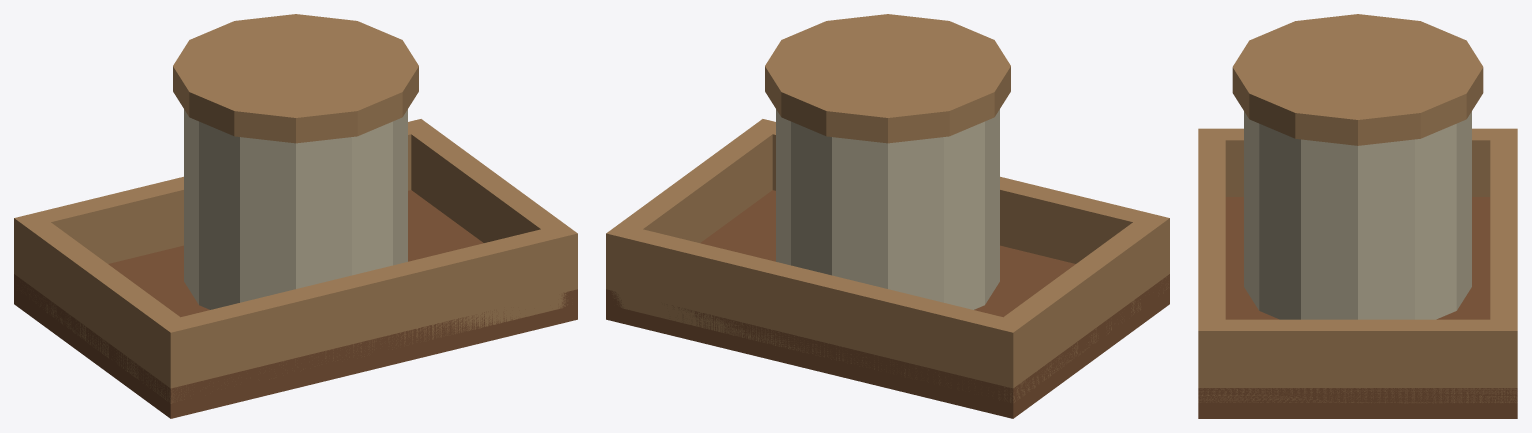
The model's file is set_biscuit_jar.glb.
3 renders of one model, left to right at view 1: azimuth 30°, elevation 25°; view 2: azimuth 150°, elevation 25°; view 3: azimuth 270°, elevation 25°, orthographic.
Visible parts, largest first — view 1: set_biscuit_jar; view 2: set_biscuit_jar; view 3: set_biscuit_jar.
Boxes of the visible parts, x1,y1,x2,y2 form: set_biscuit_jar: (14,14,577,418); set_biscuit_jar: (606,14,1169,418); set_biscuit_jar: (1198,14,1517,418).
Bounding box in the file's own units: 0.42 × 0.2425 × 0.28.
